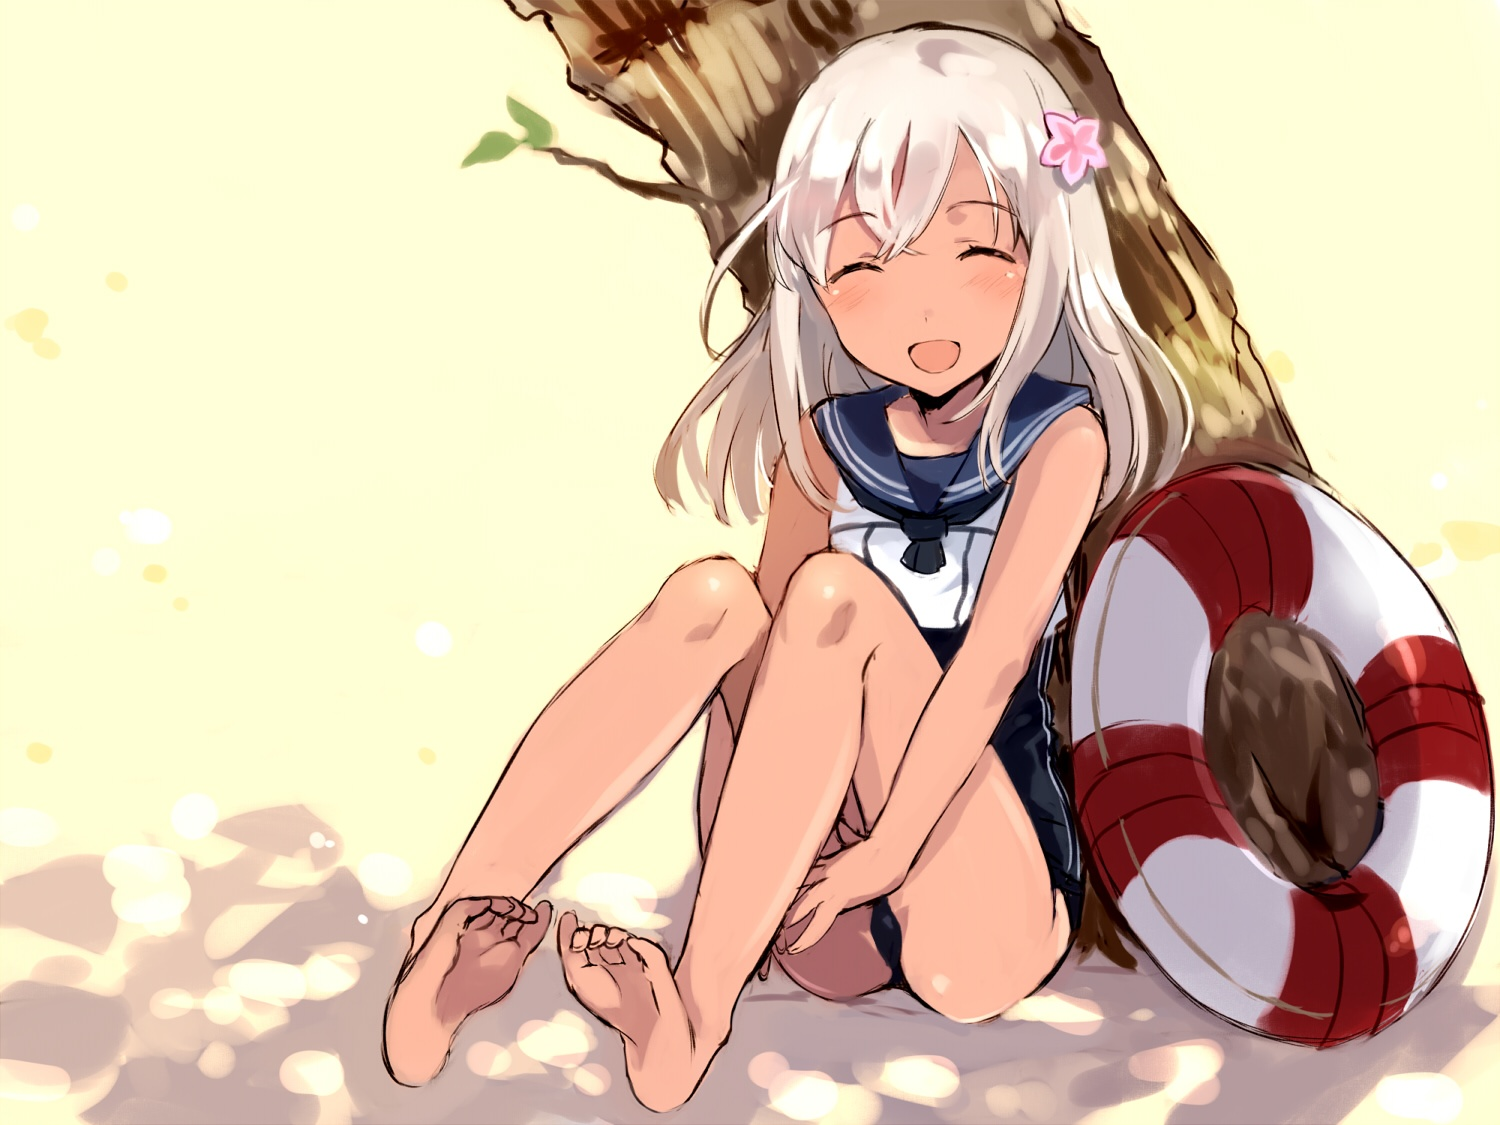纸片人正脸: (763, 25, 1139, 439)
